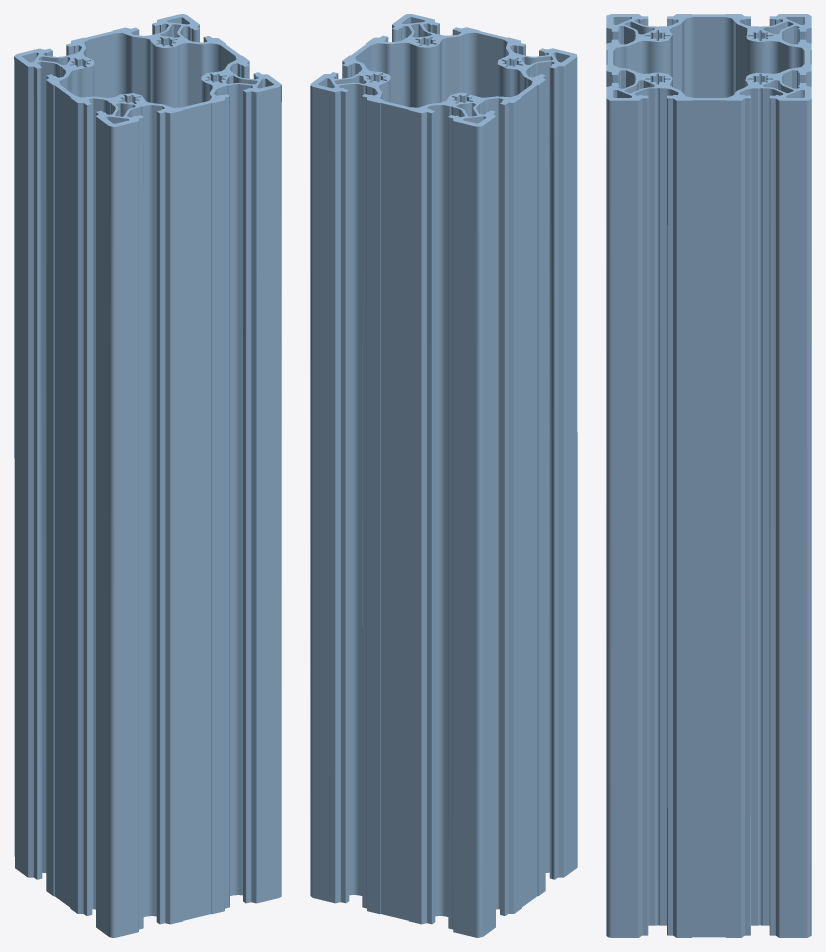
File: ST_EXT_005_0405.gltf
3 renders of one model, left to right at view 1: azimuth 30°, elevation 25°; view 2: azimuth 150°, elevation 25°; view 3: azimuth 270°, elevation 25°, orthographic. The views are drawn at different scales.
Bounding box in the file's own units: 0.09 × 0.405 × 0.09.
